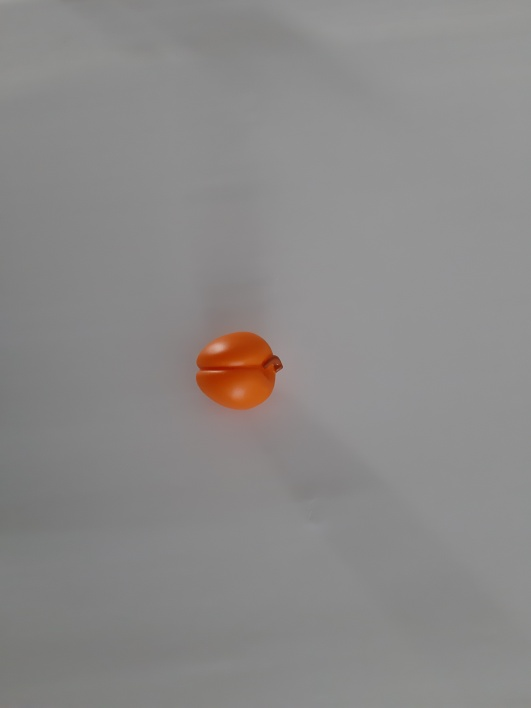apricot: (170, 313, 313, 432)
